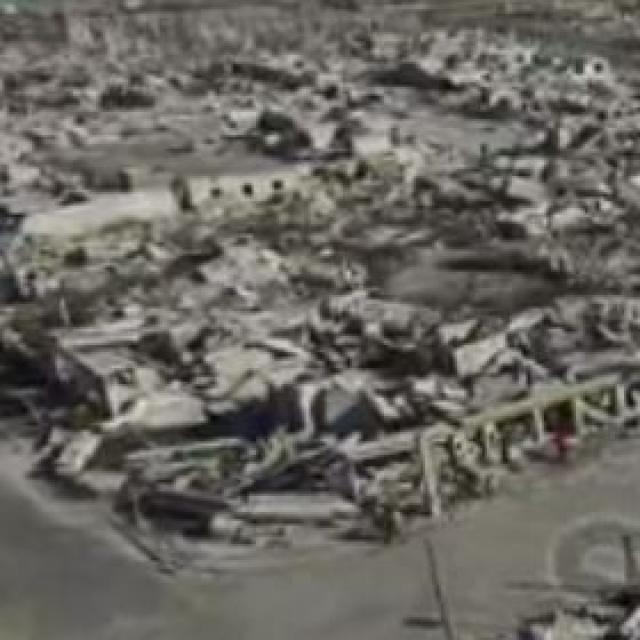collapsed_building: (11, 139, 638, 528)
